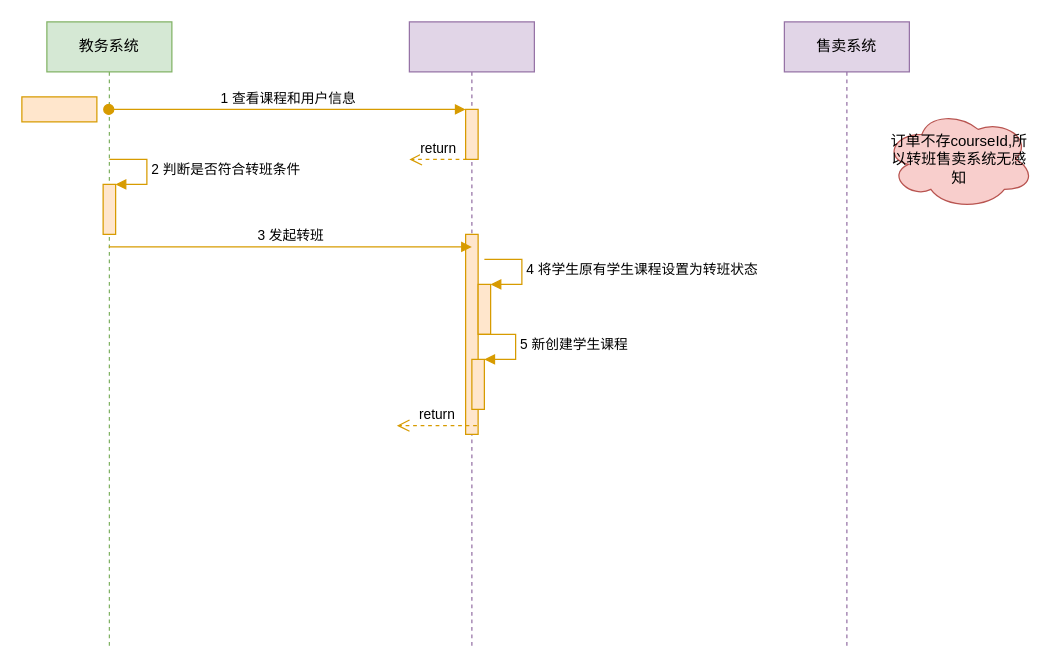
Image size: 1056x669. Some labels were removed from this diagram. Here are the shapes that lost their labels. From the top down, the centre of each, then its label:
At (59,109): "发起转班".
At (471,334): "课程系统".
